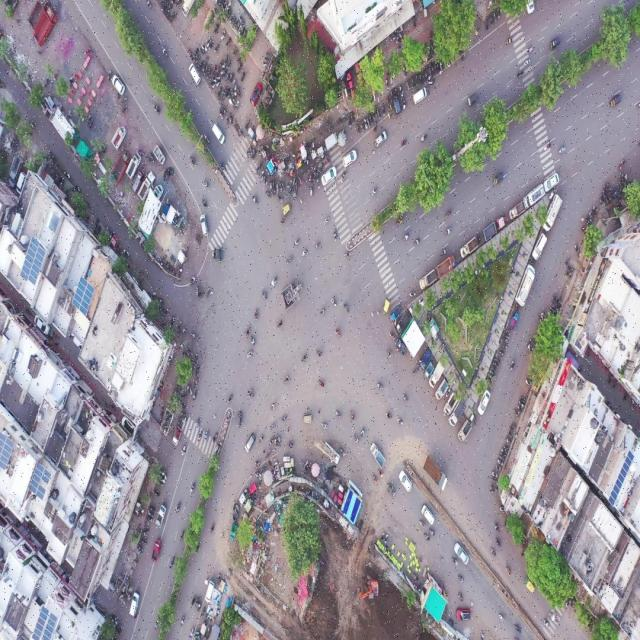3W: (464, 91, 480, 110), (549, 33, 563, 52), (610, 93, 623, 110), (492, 170, 504, 186), (524, 578, 536, 594), (382, 295, 390, 318), (234, 407, 242, 429), (302, 412, 312, 429), (280, 202, 292, 216), (387, 481, 396, 498), (216, 245, 222, 265)
Cars: (531, 232, 548, 260), (398, 467, 414, 493), (476, 388, 491, 415), (543, 170, 560, 193), (452, 542, 470, 562), (321, 166, 337, 188), (342, 147, 358, 168), (249, 82, 262, 106), (130, 591, 140, 622), (187, 65, 201, 87), (244, 430, 256, 455), (414, 83, 427, 106), (198, 212, 210, 236), (212, 123, 225, 145), (457, 605, 472, 624), (112, 75, 126, 95), (390, 89, 401, 114), (422, 506, 435, 523), (376, 130, 389, 147), (206, 579, 215, 602)
LCV: (516, 262, 535, 305), (544, 192, 563, 234), (503, 199, 529, 223), (418, 265, 438, 293), (524, 181, 543, 208), (369, 440, 387, 468), (139, 172, 155, 200), (437, 254, 454, 280), (449, 402, 466, 426), (444, 390, 459, 415), (430, 361, 443, 389), (460, 237, 477, 258), (323, 442, 340, 463), (126, 152, 140, 177), (131, 170, 144, 195), (151, 538, 164, 562), (396, 314, 410, 335), (112, 126, 125, 148), (155, 505, 167, 528), (459, 421, 472, 441), (435, 381, 448, 400), (154, 145, 166, 165), (324, 133, 339, 149), (420, 350, 431, 368), (172, 426, 181, 446), (509, 313, 519, 331), (390, 306, 401, 322), (396, 339, 407, 355), (424, 363, 433, 380)
M2W: (322, 210, 331, 230), (543, 137, 552, 156), (207, 520, 216, 539), (504, 33, 515, 48), (419, 129, 429, 145), (250, 193, 260, 209), (161, 44, 171, 60), (270, 271, 278, 290), (199, 195, 209, 210), (556, 144, 566, 159), (169, 553, 178, 569), (335, 321, 341, 344), (259, 288, 268, 303), (508, 358, 517, 373), (244, 325, 253, 340), (371, 180, 378, 199), (401, 231, 411, 244), (513, 622, 523, 635), (189, 591, 197, 607), (332, 224, 338, 245), (318, 376, 327, 390), (492, 520, 501, 534), (181, 441, 188, 459), (353, 430, 360, 448), (442, 226, 453, 237), (393, 217, 403, 229), (522, 56, 532, 68), (492, 535, 502, 547), (498, 612, 507, 625), (334, 407, 343, 420), (618, 158, 627, 171), (413, 234, 421, 248), (343, 300, 350, 316), (319, 302, 326, 318), (315, 346, 323, 360), (525, 44, 533, 58), (542, 616, 550, 630), (253, 307, 260, 323), (339, 445, 347, 459), (188, 155, 198, 166), (439, 246, 449, 257), (399, 136, 408, 148), (190, 479, 196, 497), (179, 526, 185, 544), (285, 253, 294, 265), (219, 29, 228, 41), (203, 133, 212, 145), (448, 617, 457, 629), (489, 545, 496, 560), (175, 500, 182, 515), (341, 168, 348, 183), (516, 67, 524, 80), (456, 571, 464, 584), (249, 334, 257, 347), (226, 391, 234, 404), (331, 293, 337, 310), (444, 207, 453, 218), (269, 401, 278, 412), (313, 239, 322, 250), (276, 318, 283, 332), (202, 177, 209, 191), (188, 626, 195, 640), (418, 518, 426, 530), (451, 555, 459, 567), (195, 414, 201, 430), (204, 427, 210, 443), (457, 589, 464, 602), (505, 565, 512, 578), (591, 204, 598, 217), (300, 353, 309, 363), (428, 529, 437, 539), (408, 290, 417, 300), (245, 350, 254, 360), (179, 612, 185, 627), (119, 95, 128, 105), (564, 270, 573, 280), (196, 431, 203, 443), (385, 410, 392, 422), (396, 417, 403, 429), (301, 246, 308, 258), (153, 104, 160, 116), (226, 35, 233, 47), (308, 185, 314, 199), (476, 231, 482, 245), (574, 242, 580, 256), (496, 347, 504, 357), (360, 423, 365, 439), (374, 381, 384, 389), (120, 105, 128, 115), (489, 14, 494, 30), (212, 430, 218, 443), (200, 606, 206, 619), (244, 118, 250, 131), (187, 384, 193, 397), (192, 389, 198, 402), (193, 46, 199, 59), (257, 161, 263, 174), (551, 612, 558, 623), (284, 373, 291, 384), (221, 162, 228, 173), (153, 619, 160, 630), (218, 107, 223, 122), (424, 531, 430, 543), (259, 433, 265, 445), (320, 422, 328, 431), (107, 70, 113, 82), (232, 45, 238, 57), (214, 22, 220, 34), (251, 149, 257, 161), (291, 187, 297, 199), (190, 275, 196, 287), (88, 117, 94, 129), (194, 366, 200, 378), (211, 64, 217, 76), (217, 86, 223, 98), (504, 328, 512, 337), (513, 304, 522, 312), (563, 258, 571, 267), (550, 294, 556, 306), (501, 448, 509, 457), (491, 477, 499, 486), (259, 170, 265, 182), (500, 341, 507, 351), (525, 377, 532, 387), (279, 216, 286, 226), (281, 413, 288, 423), (293, 238, 300, 248), (491, 486, 498, 496), (214, 42, 220, 53), (405, 79, 411, 90), (585, 215, 591, 226), (286, 178, 292, 189), (350, 410, 355, 423), (484, 19, 489, 32), (512, 410, 520, 418), (344, 251, 353, 258), (491, 470, 498, 479), (264, 190, 271, 199), (139, 539, 148, 546), (388, 332, 395, 341), (504, 438, 513, 445), (402, 392, 407, 404), (241, 71, 246, 83), (237, 62, 242, 74), (229, 72, 234, 84), (297, 176, 303, 186), (287, 187, 293, 197), (193, 379, 199, 389), (178, 412, 183, 424), (199, 58, 204, 70), (218, 58, 224, 68), (369, 114, 374, 126), (269, 436, 275, 446), (538, 311, 543, 323), (276, 195, 283, 203), (493, 10, 497, 24), (501, 337, 509, 344), (498, 454, 505, 462), (494, 465, 502, 472), (271, 422, 277, 431), (152, 491, 161, 497), (233, 79, 237, 92), (197, 601, 201, 614), (69, 75, 73, 88), (212, 247, 216, 260), (207, 68, 211, 81), (293, 173, 297, 186), (225, 73, 230, 83), (227, 60, 232, 70), (224, 54, 229, 64), (507, 430, 512, 440), (325, 155, 330, 165), (146, 516, 153, 523), (149, 505, 156, 512), (520, 396, 527, 403), (550, 307, 557, 314), (207, 35, 211, 47), (236, 86, 240, 98), (199, 47, 205, 55), (209, 39, 213, 51), (212, 78, 216, 90), (360, 121, 364, 133), (364, 119, 368, 131), (377, 108, 381, 120), (374, 106, 378, 118), (399, 84, 403, 96), (431, 67, 435, 79), (385, 533, 389, 545), (381, 531, 385, 543), (494, 357, 502, 363), (273, 182, 276, 197), (202, 61, 206, 72), (386, 95, 390, 106), (411, 78, 415, 89), (319, 162, 323, 173), (279, 181, 283, 192), (202, 44, 208, 51), (276, 181, 279, 195), (491, 366, 497, 373), (517, 405, 523, 412), (519, 401, 525, 408), (142, 530, 150, 535), (87, 115, 91, 125), (221, 63, 225, 73), (217, 77, 221, 87), (229, 112, 232, 125), (374, 120, 377, 133), (416, 74, 419, 87), (434, 64, 437, 77), (314, 170, 317, 183), (216, 69, 220, 78), (403, 100, 406, 112), (437, 62, 440, 74), (255, 472, 261, 478), (497, 460, 503, 466), (147, 511, 154, 516), (356, 124, 359, 135), (382, 105, 385, 116), (386, 79, 389, 90), (422, 73, 425, 84), (429, 66, 432, 77), (316, 170, 319, 181), (282, 182, 285, 193), (348, 118, 351, 128), (351, 115, 354, 125), (419, 74, 422, 84)
Truck: (419, 450, 451, 494), (34, 6, 57, 45), (112, 149, 129, 180)
